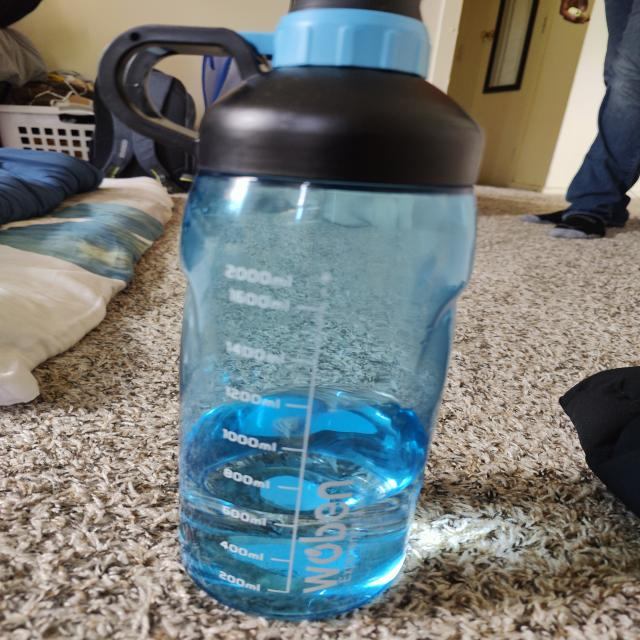bottle: (106, 0, 446, 620)
